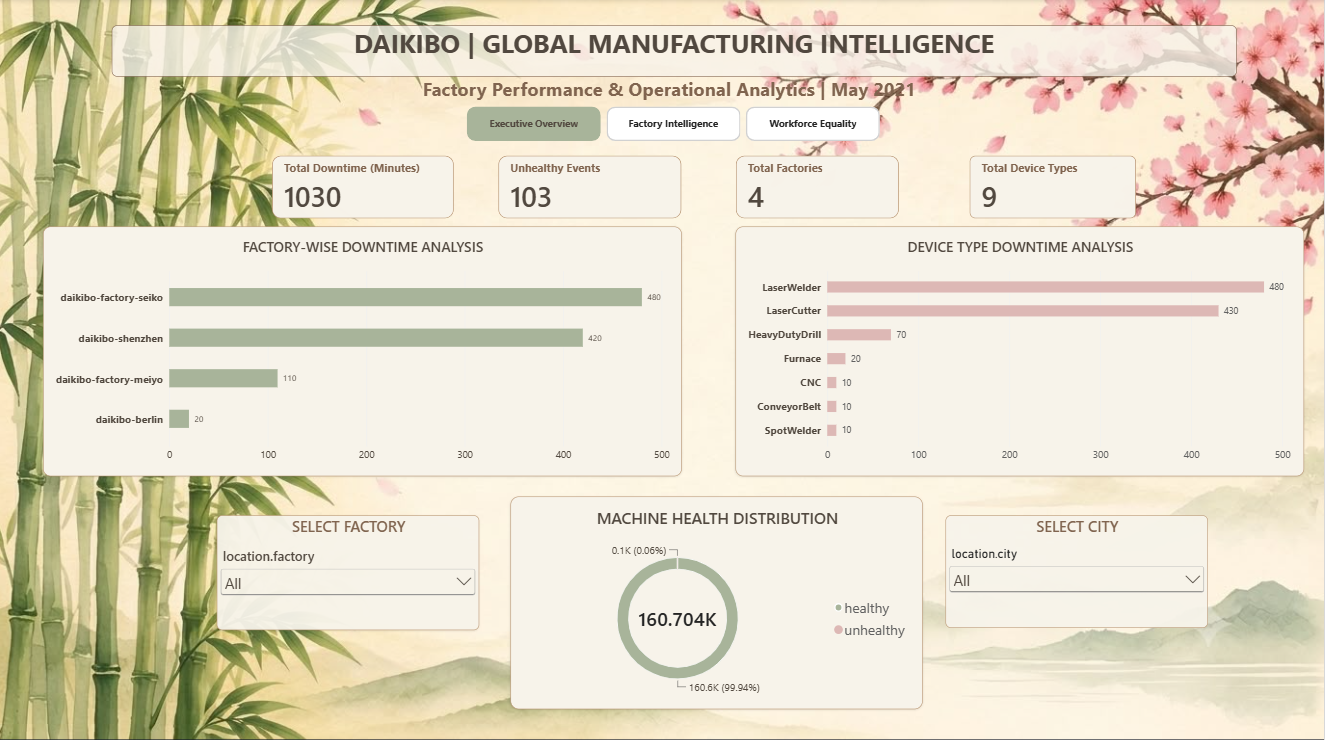

This screenshot's page, from the dashboard's own definition file:
{"tool":"powerbi","page":{"name":"Executive Overview","canvas":[1920,1080],"ordinal":0},"visuals":[{"type":"textbox","box":[10,0,280,280],"z":0},{"type":"textbox","box":[10,290,280,280],"z":1000},{"type":"textbox","box":[164.7,38,1628.7,74.2],"z":2000},{"type":"textbox","box":[23.5,112.2,1896.5,68.8],"z":3000},{"type":"cardVisual","fields":{"Data":["Query (3).Total Downtime (Minutes)","Query (3).Total Downtime (Minutes)"]},"box":[396.3,226.2,264.2,92.3],"z":4000},{"type":"cardVisual","fields":{"Data":["Query (3).Unhealthy Events"]},"box":[723.9,226.2,266,92.3],"z":5000},{"type":"cardVisual","fields":{"Data":["Query (3).Total Factories"]},"box":[1067.7,226.2,237.1,92.3],"z":6000},{"type":"cardVisual","fields":{"Data":["Query (3).Total Device Types","Query (3).Total Device Types"]},"box":[1406.1,226.2,242.5,92.3],"z":7000},{"type":"clusteredBarChart","title":"FACTORY-WISE DOWNTIME ANALYSIS","fields":{"Category":["Query (3).location.factory"],"Y":["Query (3).Total Downtime (Minutes)"]},"box":[65.1,329.4,924.7,361.9],"z":8000},{"type":"clusteredBarChart","title":"DEVICE TYPE DOWNTIME ANALYSIS","fields":{"Category":["Query (3).deviceType"],"Y":["Query (3).Total Downtime (Minutes)"]},"box":[1067.7,329.4,823.4,361.9],"z":9000},{"type":"slicer","title":"SELECT FACTORY","fields":{"Values":["Query (3).location.factory"]},"box":[316.7,747.4,380,166.5],"z":10000},{"type":"slicer","title":"SELECT CITY","fields":{"Values":["Query (3).location.city"]},"box":[1371.7,747.4,380,162.9],"z":11000},{"type":"donutChart","title":"MACHINE HEALTH DISTRIBUTION ","fields":{"Category":["Query (3).data.status"],"Y":["CountNonNull(Query (3).deviceID)"]},"box":[742,720.2,597.2,307.6],"z":12000},{"type":"pageNavigator","box":[678.6,155.6,600,50],"z":13000}]}

Visuals, with their boxes in screenshot pixels (x1, y1, x2, y2), scaled from the page's 1920x1080 canvas onto the 1325x740 screenshot:
textbox: <region>7, 0, 200, 192</region>
textbox: <region>7, 199, 200, 391</region>
textbox: <region>114, 26, 1238, 77</region>
textbox: <region>16, 77, 1324, 124</region>
cardVisual - Query (3).Total Downtime (Minutes) x Query (3).Total Downtime (Minutes): <region>273, 155, 456, 218</region>
cardVisual - Query (3).Unhealthy Events: <region>500, 155, 683, 218</region>
cardVisual - Query (3).Total Factories: <region>737, 155, 900, 218</region>
cardVisual - Query (3).Total Device Types x Query (3).Total Device Types: <region>970, 155, 1138, 218</region>
"FACTORY-WISE DOWNTIME ANALYSIS" clusteredBarChart: <region>45, 226, 683, 474</region>
"DEVICE TYPE DOWNTIME ANALYSIS" clusteredBarChart: <region>737, 226, 1305, 474</region>
"SELECT FACTORY" slicer: <region>219, 512, 481, 626</region>
"SELECT CITY" slicer: <region>947, 512, 1209, 624</region>
"MACHINE HEALTH DISTRIBUTION " donutChart: <region>512, 493, 924, 704</region>
pageNavigator: <region>468, 107, 882, 141</region>
